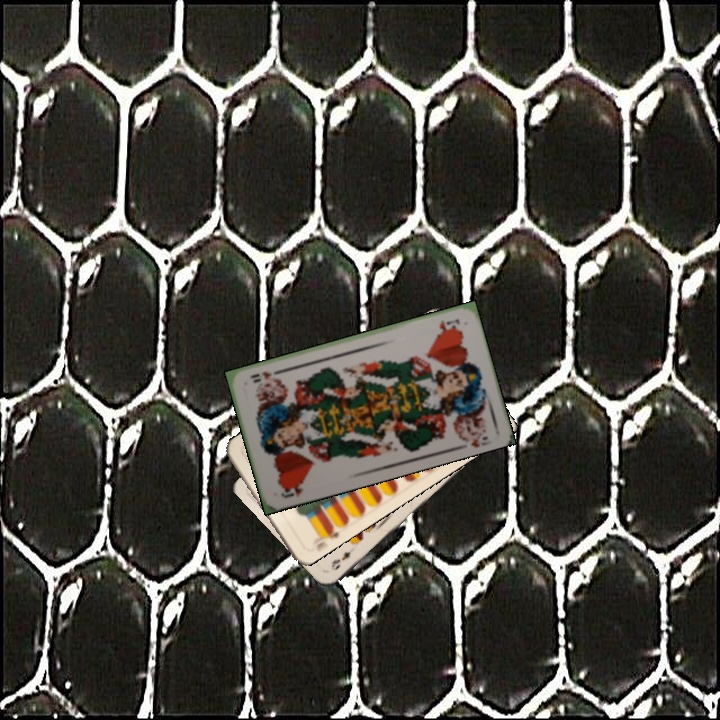E10: (312, 522, 342, 553)
E9: (327, 547, 353, 573)
HO: (277, 479, 306, 500), (435, 315, 462, 334)
